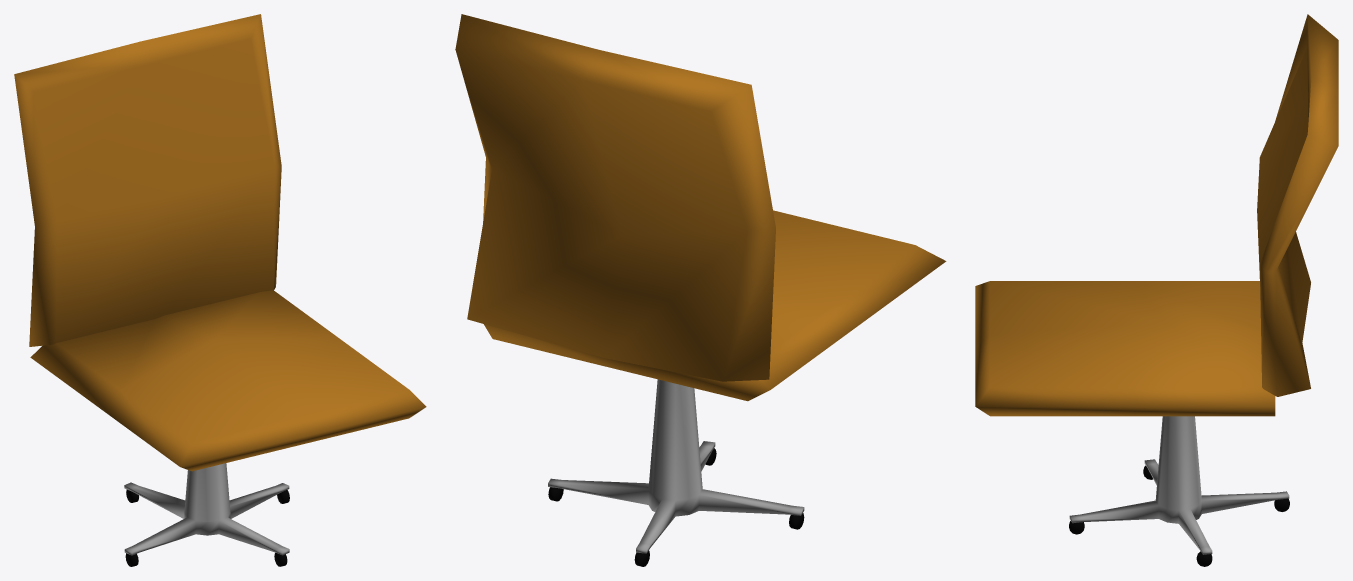
Rendered from Assets2Arthur.fbx_cadeiraAbelha.fbx.
3 views of the same model, side by side, from view 1: azimuth 30°, elevation 25°; view 2: azimuth 150°, elevation 25°; view 3: azimuth 270°, elevation 25° (orthographic). The views are drawn at different scales.
Visible parts, largest first — view 1: cadeiraAbelha; view 2: cadeiraAbelha; view 3: cadeiraAbelha.
Boxes of the visible parts, x1,y1,x2,y2 form: cadeiraAbelha: (14,14,426,566); cadeiraAbelha: (455,14,946,566); cadeiraAbelha: (975,14,1338,566).
Bounding box in the file's own units: 106 × 182 × 134.
